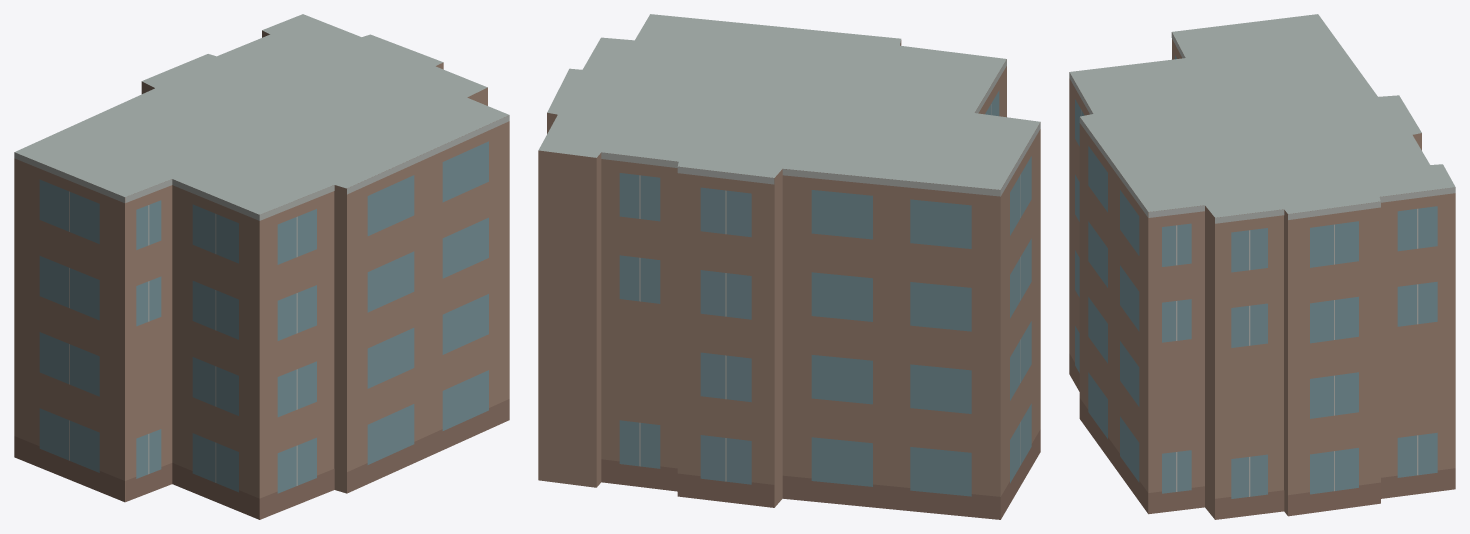
Rendered from survey-upis-32659496.glb.
3 views of the same model, side by side, from view 1: azimuth 30°, elevation 25°; view 2: azimuth 150°, elevation 25°; view 3: azimuth 270°, elevation 25° (orthographic). The views are drawn at different scales.
Parts seen in each view (by area): view 1: survey-upis-32659496.tmp; view 2: survey-upis-32659496.tmp; view 3: survey-upis-32659496.tmp.
Boxes of the visible parts, x1,y1,x2,y2 form: survey-upis-32659496.tmp: (14,14,509,519); survey-upis-32659496.tmp: (538,14,1040,519); survey-upis-32659496.tmp: (1069,14,1455,519).
Size of the model in its own units: 17.65 by 12.2 by 14.14.
